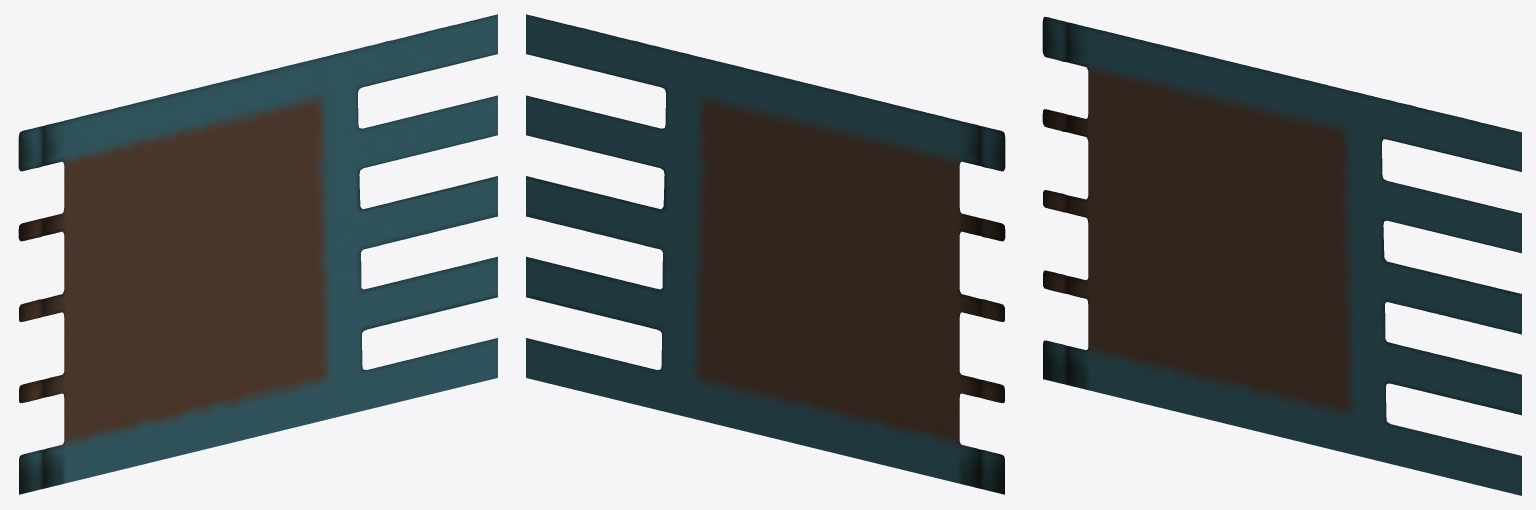
File: qizi_3.FBX
The picture shows the model from 3 angles, left to right: view 1: azimuth 30°, elevation 25°; view 2: azimuth 150°, elevation 25°; view 3: azimuth 330°, elevation 25°; orthographic projection.
Visible parts, largest first — view 1: qizi_3; view 2: qizi_3; view 3: qizi_3.
Part boxes in pixels (box(x1,y1,x2,y2)): qizi_3: box(18, 14, 497, 494); qizi_3: box(526, 14, 1005, 494); qizi_3: box(1042, 17, 1521, 495).
Bounding box in the file's own units: 52.5 × 37.75 × 7.07e-06.
